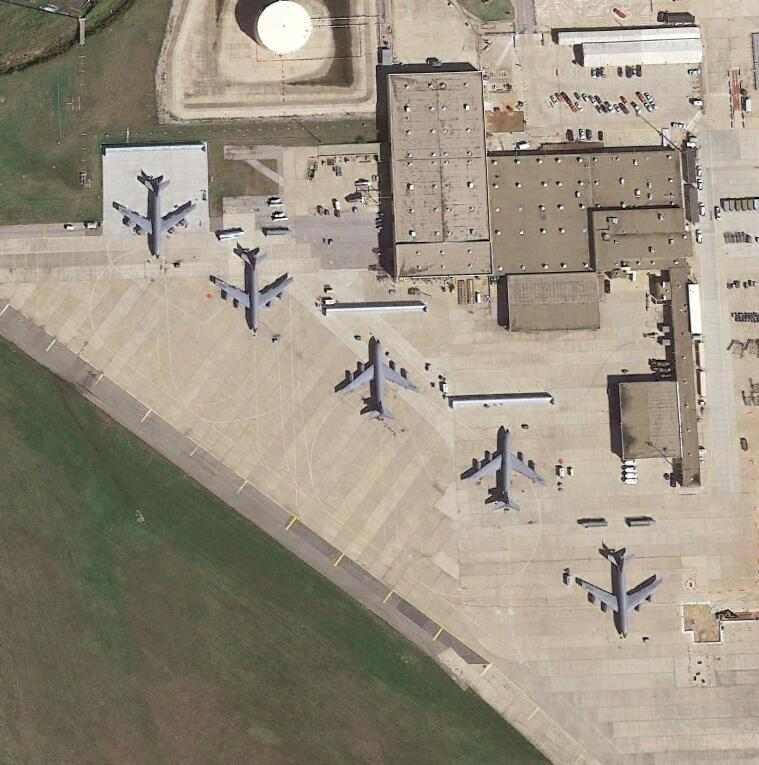A14: (576, 549, 664, 635), (208, 246, 294, 332), (459, 425, 547, 509), (334, 337, 421, 420), (114, 175, 198, 258)
